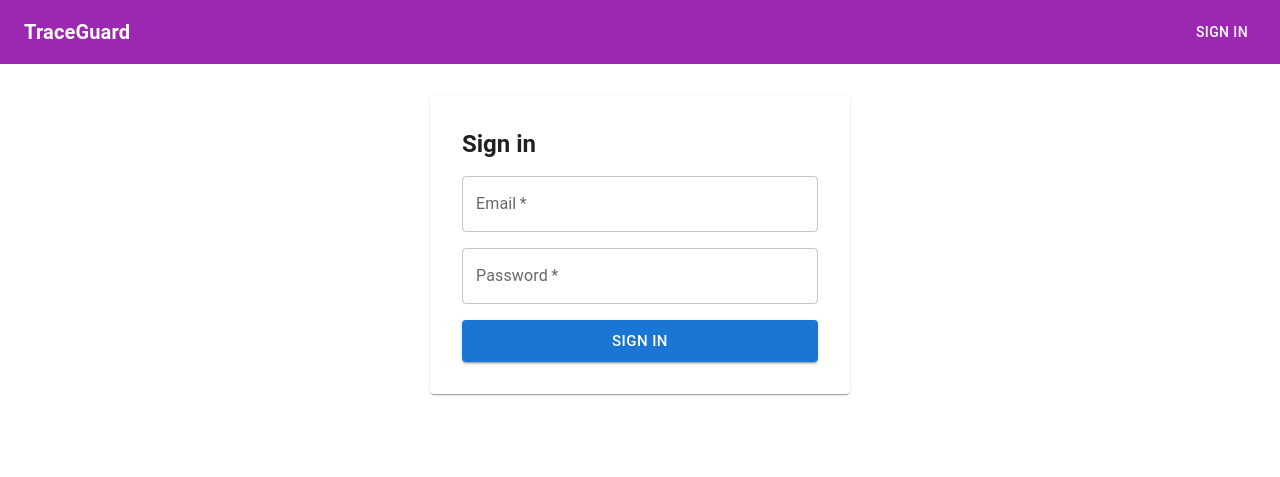
Scenario: login › shows an error for wrong credentials
The image size is (1280, 477).
Type "user@test.local" into the field labelled "Email *".
click(640, 204); type("user@test.local")  # box [462,176,818,232]
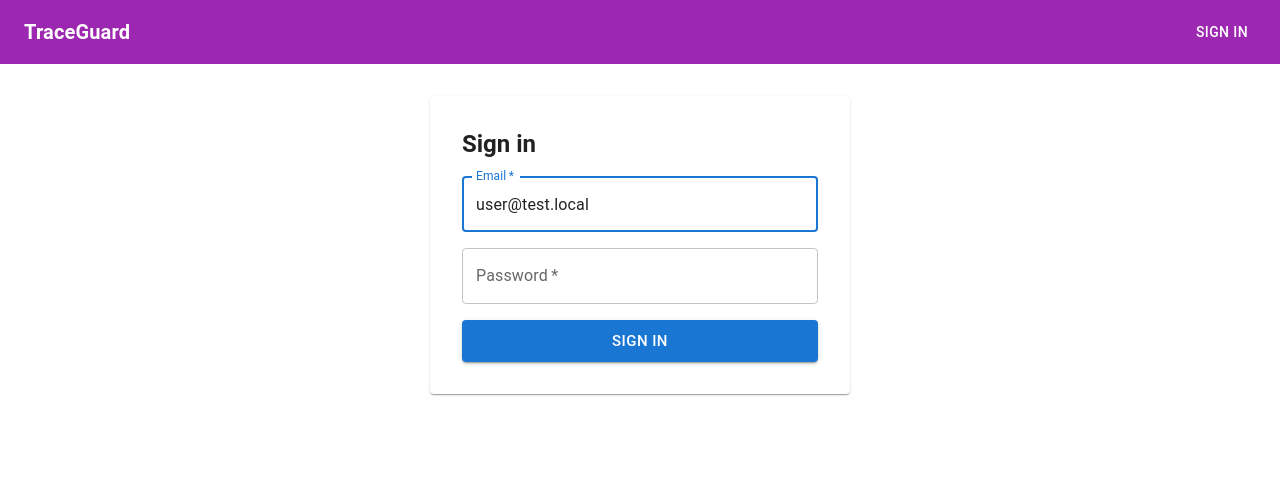
Type "wrong" into the password field labelled "Password *".
click(640, 276); type("wrong")  # box [462,248,818,304]
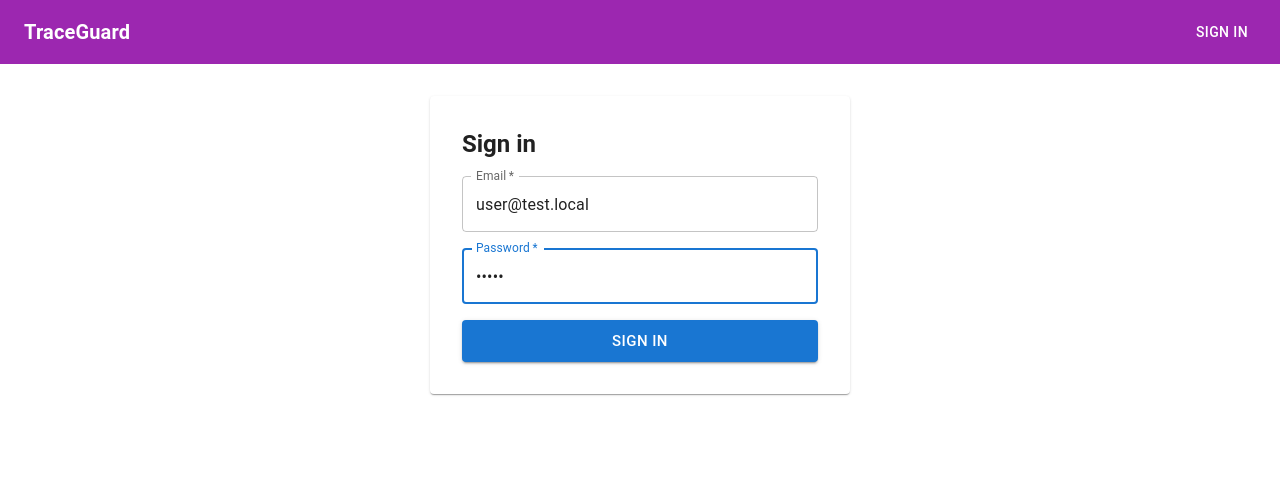
Click the button "Sign in".
click(640, 341)  # box [462,320,818,362]
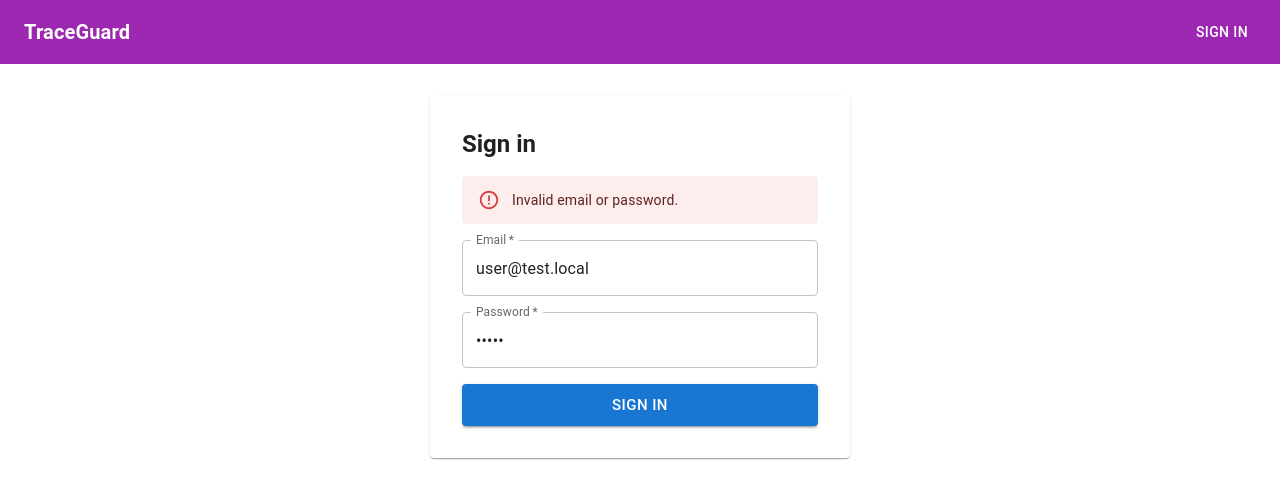
Now the text "Invalid email or password." is shown, box [512,192,678,208]
